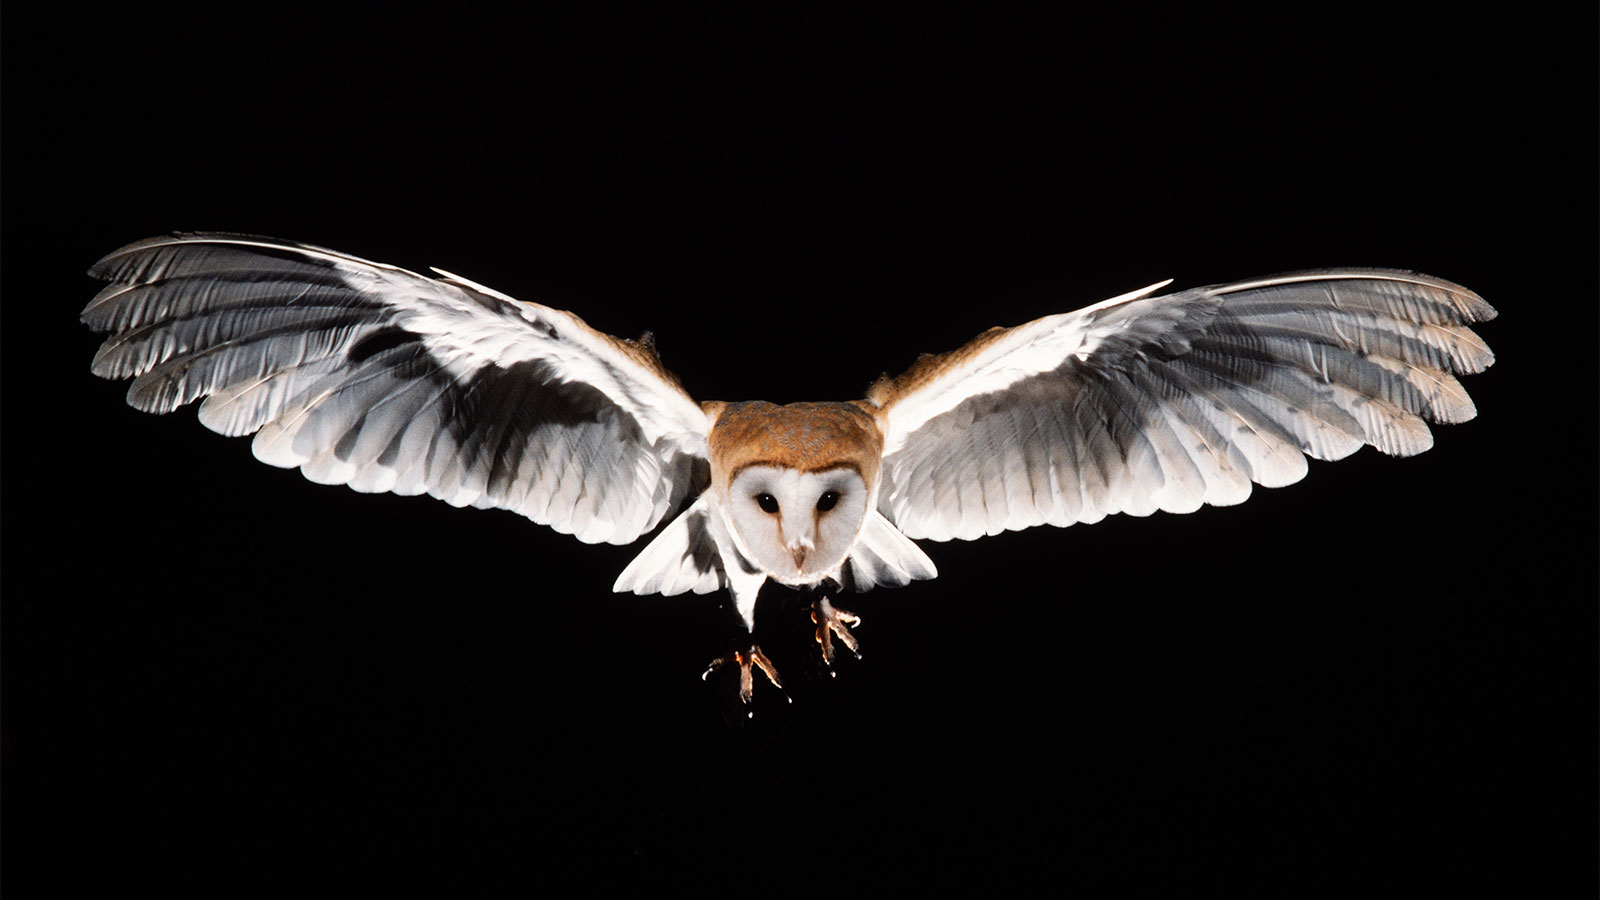owl: (97, 212, 1512, 667)
